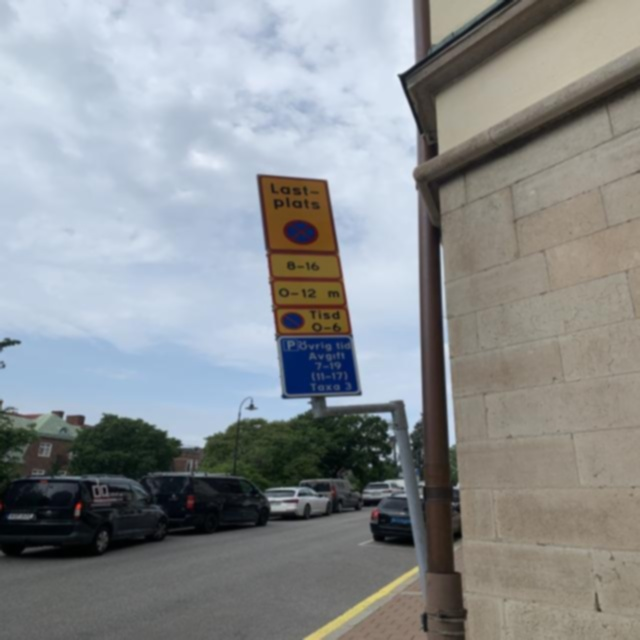lastplats: (254, 172, 343, 255)
